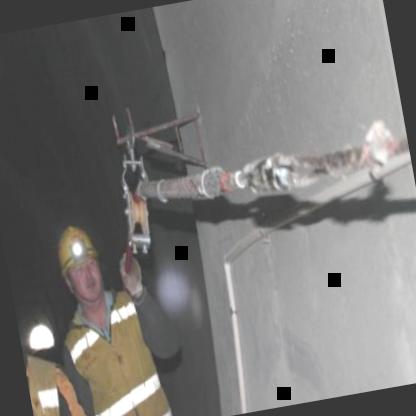helmet: (50, 215, 108, 315)
